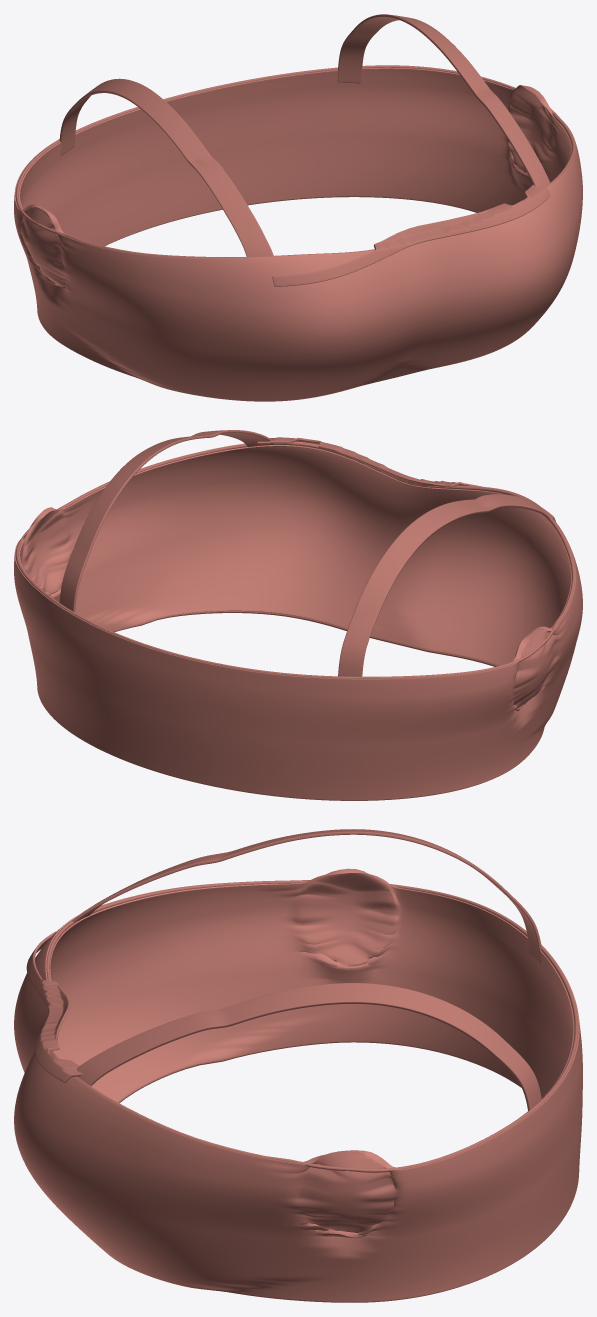
Rendered from Feminine-strappy-top.glb.
3 renders of one model, top to bottom at view 1: azimuth 30°, elevation 25°; view 2: azimuth 150°, elevation 25°; view 3: azimuth 270°, elevation 25°, orthographic. The views are drawn at different scales.
Visible parts, largest first — view 1: Clothing / strappy body, Clothing / Strappy seated shoulder strap -1, Clothing / Strappy seated shoulder strap 1, Crop / seated cross strap, strappy body / bound edge.001 export; view 2: Clothing / strappy body, Clothing / Strappy seated shoulder strap -1, Clothing / Strappy seated shoulder strap 1, strappy body / bound edge.001 export, Crop / seated cross strap, strappy body / bound edge export; view 3: Clothing / strappy body, Clothing / Strappy seated shoulder strap 1, strappy body / bound edge.001 export, Clothing / Strappy seated shoulder strap -1, Crop / seated cross strap, strappy body / bound edge export.
Boxes of the visible parts, bbox=[...] form: Clothing / strappy body: bbox=[14, 67, 582, 401]; Clothing / Strappy seated shoulder strap -1: bbox=[59, 78, 273, 256]; Clothing / Strappy seated shoulder strap 1: bbox=[337, 14, 550, 186]; Crop / seated cross strap: bbox=[272, 183, 550, 286]; strappy body / bound edge.001 export: bbox=[15, 65, 574, 258]; Clothing / strappy body: bbox=[14, 441, 582, 800]; Clothing / Strappy seated shoulder strap -1: bbox=[338, 494, 550, 676]; Clothing / Strappy seated shoulder strap 1: bbox=[59, 430, 273, 612]; strappy body / bound edge.001 export: bbox=[15, 442, 574, 678]; Crop / seated cross strap: bbox=[257, 437, 555, 521]; strappy body / bound edge export: bbox=[114, 611, 497, 800]; Clothing / strappy body: bbox=[14, 868, 582, 1302]; Clothing / Strappy seated shoulder strap 1: bbox=[76, 983, 541, 1110]; strappy body / bound edge.001 export: bbox=[46, 880, 578, 1172]; Clothing / Strappy seated shoulder strap -1: bbox=[72, 829, 541, 964]; Crop / seated cross strap: bbox=[26, 931, 82, 1082]; strappy body / bound edge export: bbox=[118, 1042, 491, 1302].
Size of the model in its own units: 0.6458 by 0.2881 by 0.5334.
